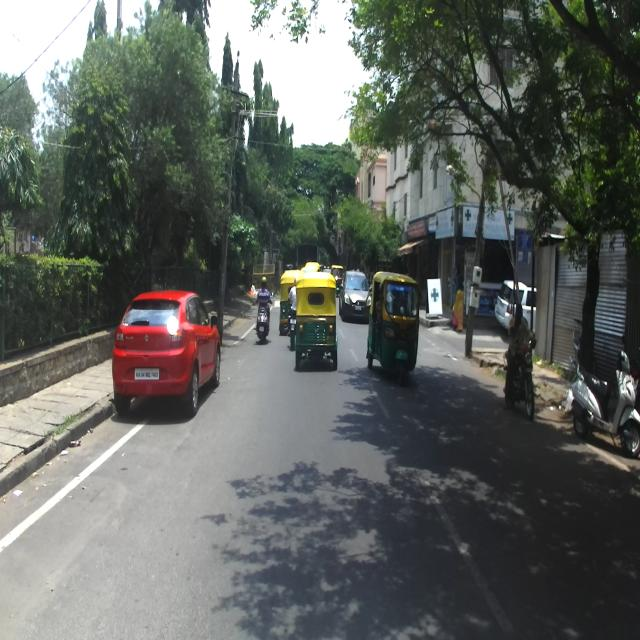auto ahead at: (368, 266, 423, 388), (294, 270, 339, 370)
car ahead at: (116, 281, 222, 417)
motorcycle ahead at: (570, 350, 640, 458)
